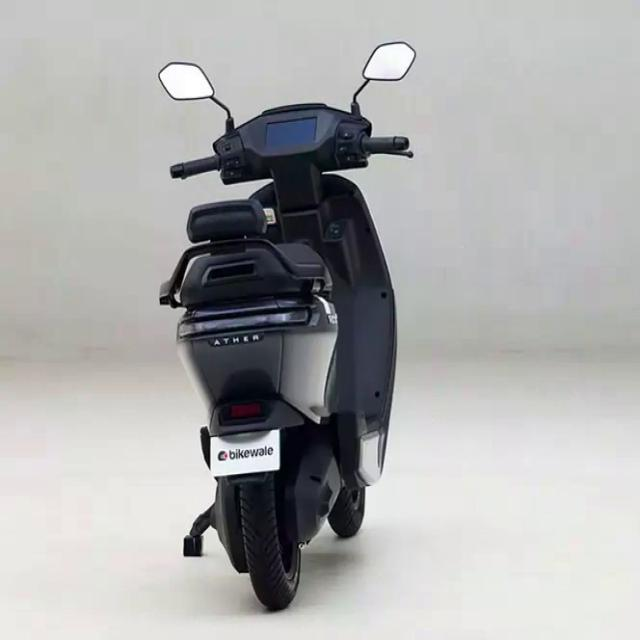objects: (136, 21, 456, 637)
